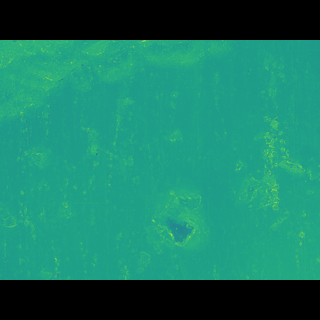Loch: (0, 67, 234, 133), (230, 79, 311, 199), (148, 181, 215, 228)
